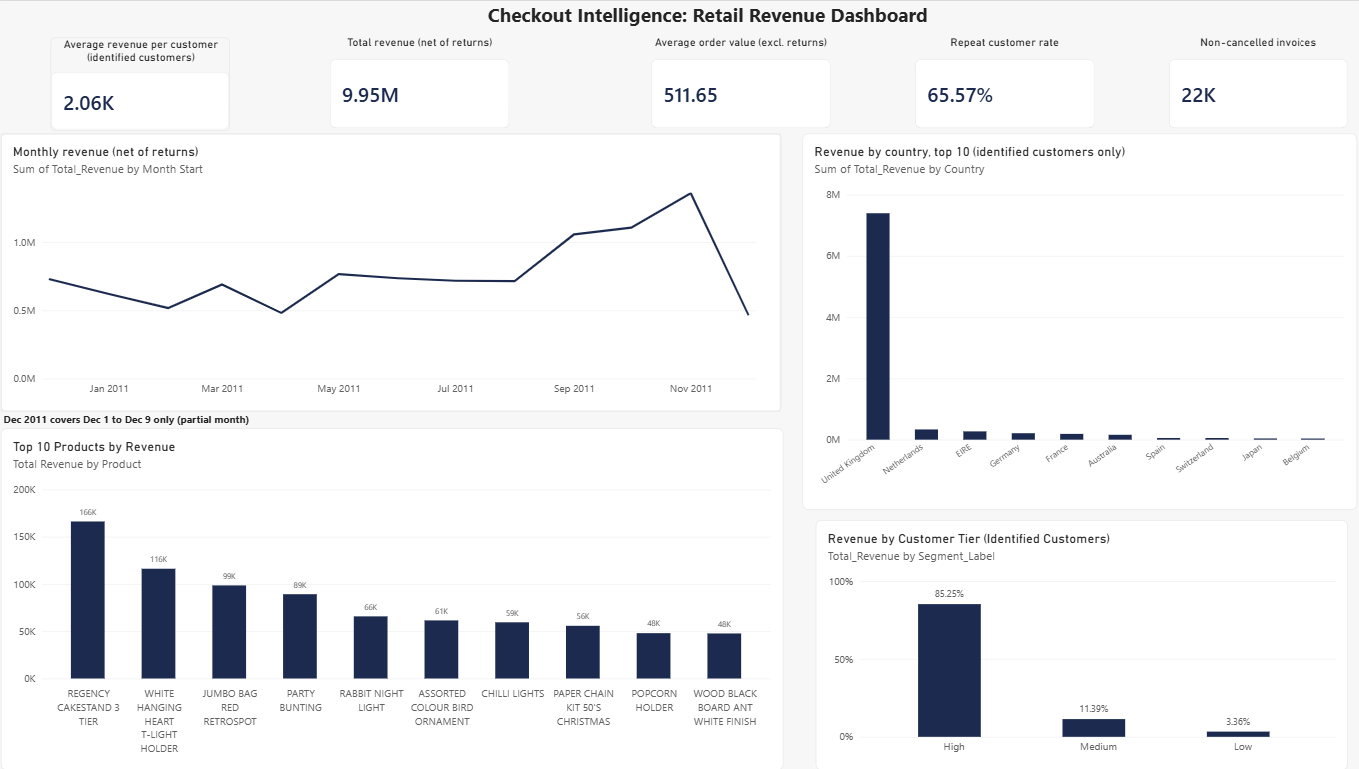

This screenshot's page, from the dashboard's own definition file:
{"tool":"powerbi","page":{"name":"Page 1","canvas":[1920,1080],"ordinal":0},"visuals":[{"type":"cardVisual","title":"Repeat customer rate","fields":{"Data":["vw_RepeatCustomerRate.Repeat Customer Rate"]},"box":[1286,48,250,130],"z":0},{"type":"cardVisual","title":"Total revenue (net of returns)","fields":{"Data":["Sum(vw_TotalRevenue.Total_Revenue)"]},"box":[471.5,48,250,130],"z":1000},{"type":"cardVisual","title":"Average order value (excl. returns)","fields":{"Data":["Sum(vw_AverageBasketRevenue.Average_Invoice_Revenue)"]},"box":[918.6,47.1,250,130],"z":2000},{"type":"cardVisual","title":"Non-cancelled invoices","fields":{"Data":["Sum(vw_NumberOfTransactions.Total_Transactions)"]},"box":[1640,48,250,130],"z":3000},{"type":"cardVisual","title":"Average revenue per customer (identified customers)","fields":{"Data":["Sum(vw_AverageRevenuePerCustomer.Average_Customer_Revenue)"]},"box":[82,50,250,130],"z":4000},{"type":"lineChart","title":"Monthly revenue (net of returns)","fields":{"Category":["vw_MonthlyRevenue.Month Start"],"Y":["Sum(vw_MonthlyRevenue.Total_Revenue)"]},"box":[12.2,184.4,1088,388],"z":5000},{"type":"textbox","box":[12.2,572.2,480,31.2],"z":6000},{"type":"clusteredColumnChart","title":"Revenue by country, top 10 (identified customers only)","fields":{"Category":["vw_RevenueByCountry.Country"],"Y":["Sum(vw_RevenueByCountry.Total_Revenue)"]},"box":[1128.6,184.3,774,524],"z":7000},{"type":"clusteredColumnChart","title":"Revenue by Customer Tier (Identified Customers)","fields":{"Category":["vw_CustomerSegmentation.Segment_Label"],"Y":["Sum(vw_CustomerSegmentation.Total_Revenue)"]},"box":[1147.1,722.9,742.9,348.6],"z":8000},{"type":"clusteredColumnChart","title":"Top 10 Products by Revenue","fields":{"Category":["vw_ProductRevenue.Description"],"Y":["Sum(vw_ProductRevenue.Total_Revenue)"]},"box":[11.7,595,1090,476],"z":9000},{"type":"textbox","box":[556,0,884,76],"z":10000}]}

Visuals, with their boxes in screenshot pixels (x1, y1, x2, y2), scaled from the page's 1920x1080 canvas onto the 1359x769 screenshot:
"Repeat customer rate" cardVisual: left=910, top=34, right=1087, bottom=127
"Total revenue (net of returns)" cardVisual: left=334, top=34, right=511, bottom=127
"Average order value (excl. returns)" cardVisual: left=650, top=34, right=827, bottom=126
"Non-cancelled invoices" cardVisual: left=1161, top=34, right=1338, bottom=127
"Average revenue per customer (identified customers)" cardVisual: left=58, top=36, right=235, bottom=128
"Monthly revenue (net of returns)" lineChart: left=9, top=131, right=779, bottom=408
textbox: left=9, top=407, right=348, bottom=430
"Revenue by country, top 10 (identified customers only)" clusteredColumnChart: left=799, top=131, right=1347, bottom=504
"Revenue by Customer Tier (Identified Customers)" clusteredColumnChart: left=812, top=515, right=1338, bottom=763
"Top 10 Products by Revenue" clusteredColumnChart: left=8, top=424, right=780, bottom=763
textbox: left=394, top=0, right=1019, bottom=54
